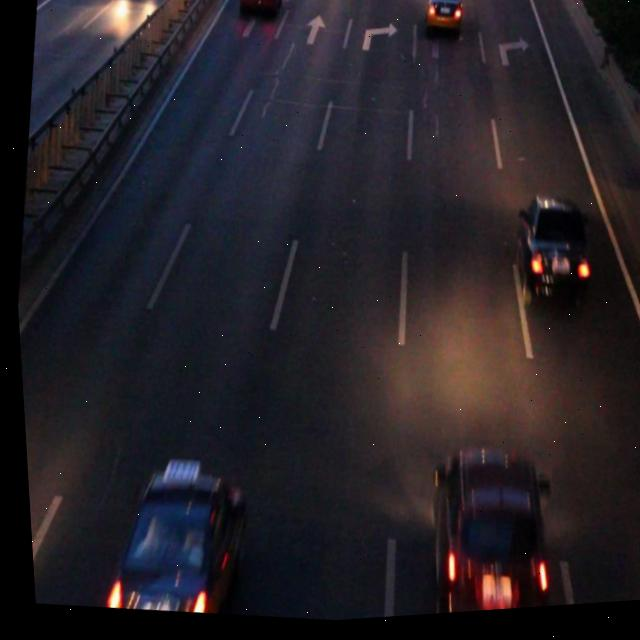car: (98, 464, 245, 624), (412, 451, 550, 620), (503, 200, 590, 311), (422, 0, 462, 38), (237, 0, 283, 20)
